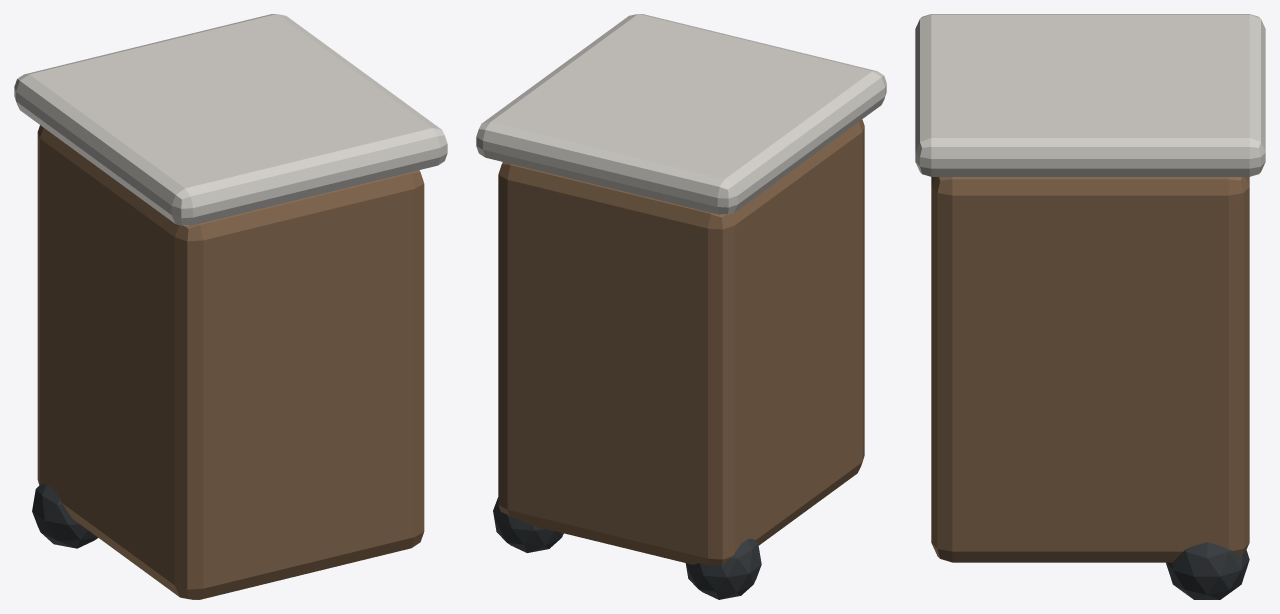
Rendered from SM_Kit_Prop_WheelieBin.glb.
The picture shows the model from 3 angles, left to right: view 1: azimuth 30°, elevation 25°; view 2: azimuth 150°, elevation 25°; view 3: azimuth 270°, elevation 25°; orthographic projection. The views are drawn at different scales.
Visible parts, largest first — view 1: SM_Kit_Prop_WheelieBin; view 2: SM_Kit_Prop_WheelieBin; view 3: SM_Kit_Prop_WheelieBin.
Boxes of the visible parts, x1,y1,x2,y2 form: SM_Kit_Prop_WheelieBin: [14, 14, 447, 599]; SM_Kit_Prop_WheelieBin: [476, 14, 886, 599]; SM_Kit_Prop_WheelieBin: [915, 14, 1265, 599].
Bounding box in the file's own units: 0.61 × 0.98 × 0.66.
